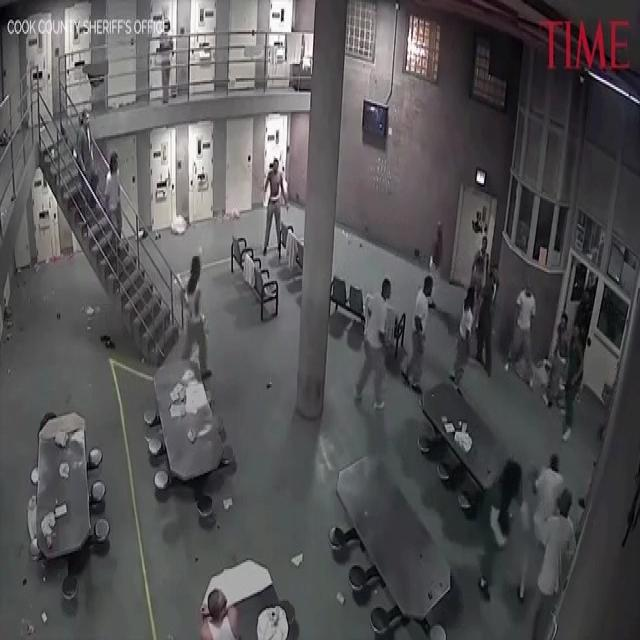fight: (473, 454, 580, 640), (469, 250, 499, 380)
